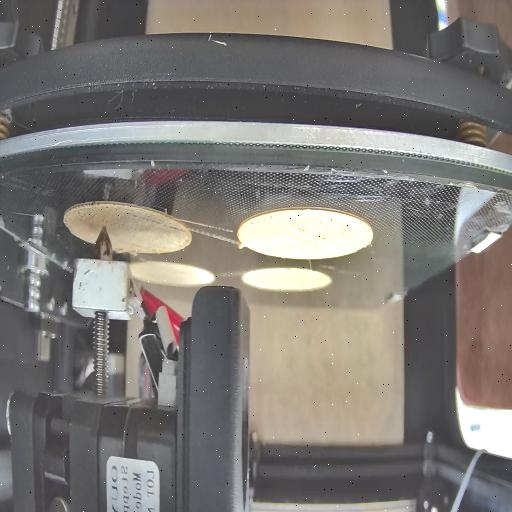under_extrusion: (70, 206, 180, 234), (290, 216, 368, 246), (248, 214, 276, 240)
